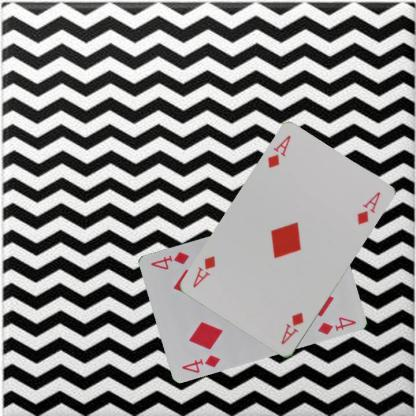4d: (179, 352, 222, 374)
Ad: (265, 133, 292, 170), (279, 310, 305, 346)
